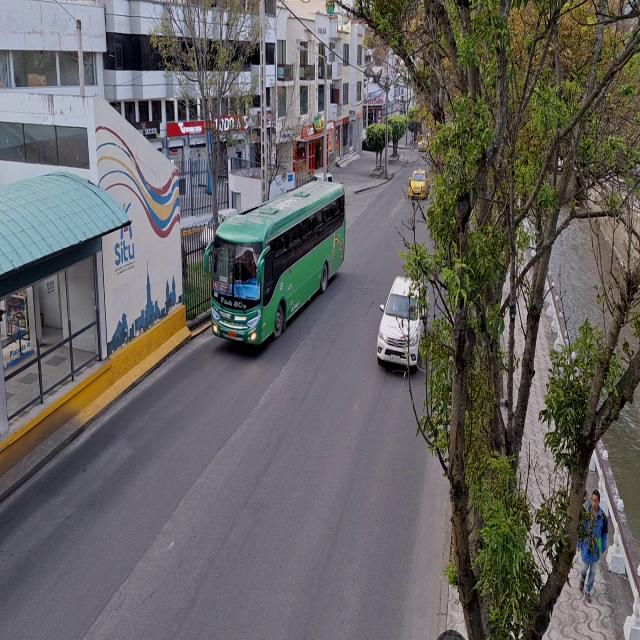BUS: (214, 188, 348, 350)
CMT: (376, 275, 430, 376)
